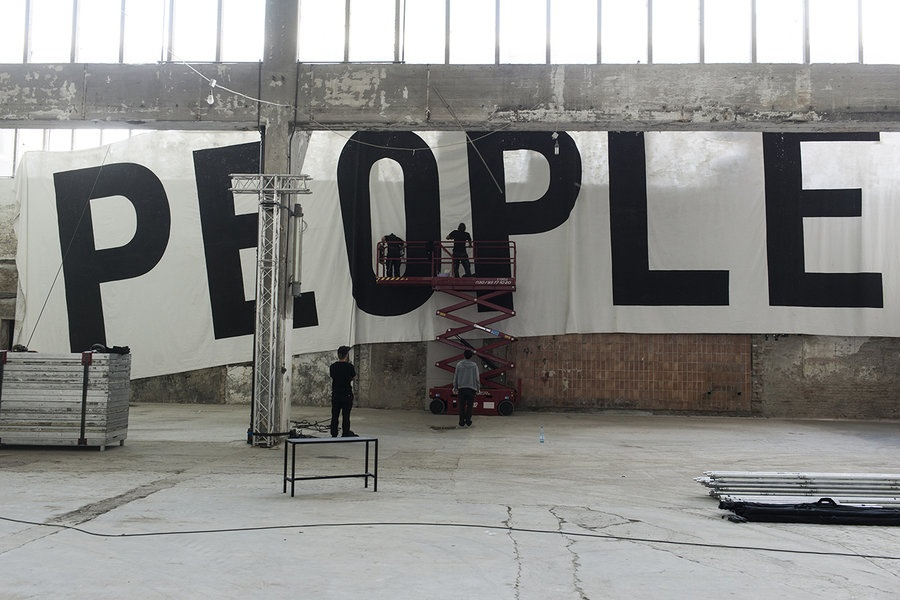text: (41, 128, 56, 361), (57, 128, 72, 361), (73, 128, 88, 361), (89, 128, 104, 361), (105, 128, 120, 361), (121, 128, 136, 361), (137, 128, 152, 361), (153, 128, 168, 361), (169, 128, 184, 361), (185, 128, 200, 361), (201, 128, 216, 361), (217, 128, 232, 361), (233, 128, 248, 361), (249, 128, 264, 361), (265, 128, 280, 361), (281, 128, 296, 361), (297, 128, 312, 361), (313, 128, 328, 361), (329, 128, 344, 361), (345, 128, 360, 361), (361, 128, 376, 361), (377, 128, 392, 361), (393, 128, 408, 361), (409, 128, 424, 361), (425, 128, 440, 361), (441, 128, 456, 361), (457, 128, 472, 361), (473, 128, 488, 361), (489, 128, 504, 361), (505, 128, 520, 361), (521, 128, 536, 361), (537, 128, 552, 361), (553, 128, 568, 361), (569, 128, 584, 361), (585, 128, 600, 361), (601, 128, 616, 361), (617, 128, 632, 361), (633, 128, 648, 361), (649, 128, 664, 361), (665, 128, 680, 361), (681, 128, 696, 361), (697, 128, 712, 361), (713, 128, 728, 361), (729, 128, 744, 361), (745, 128, 760, 361), (761, 128, 776, 361), (777, 128, 792, 361), (793, 128, 808, 361), (809, 128, 824, 361), (825, 128, 840, 361), (841, 128, 856, 361), (857, 128, 872, 361), (873, 128, 888, 361)
